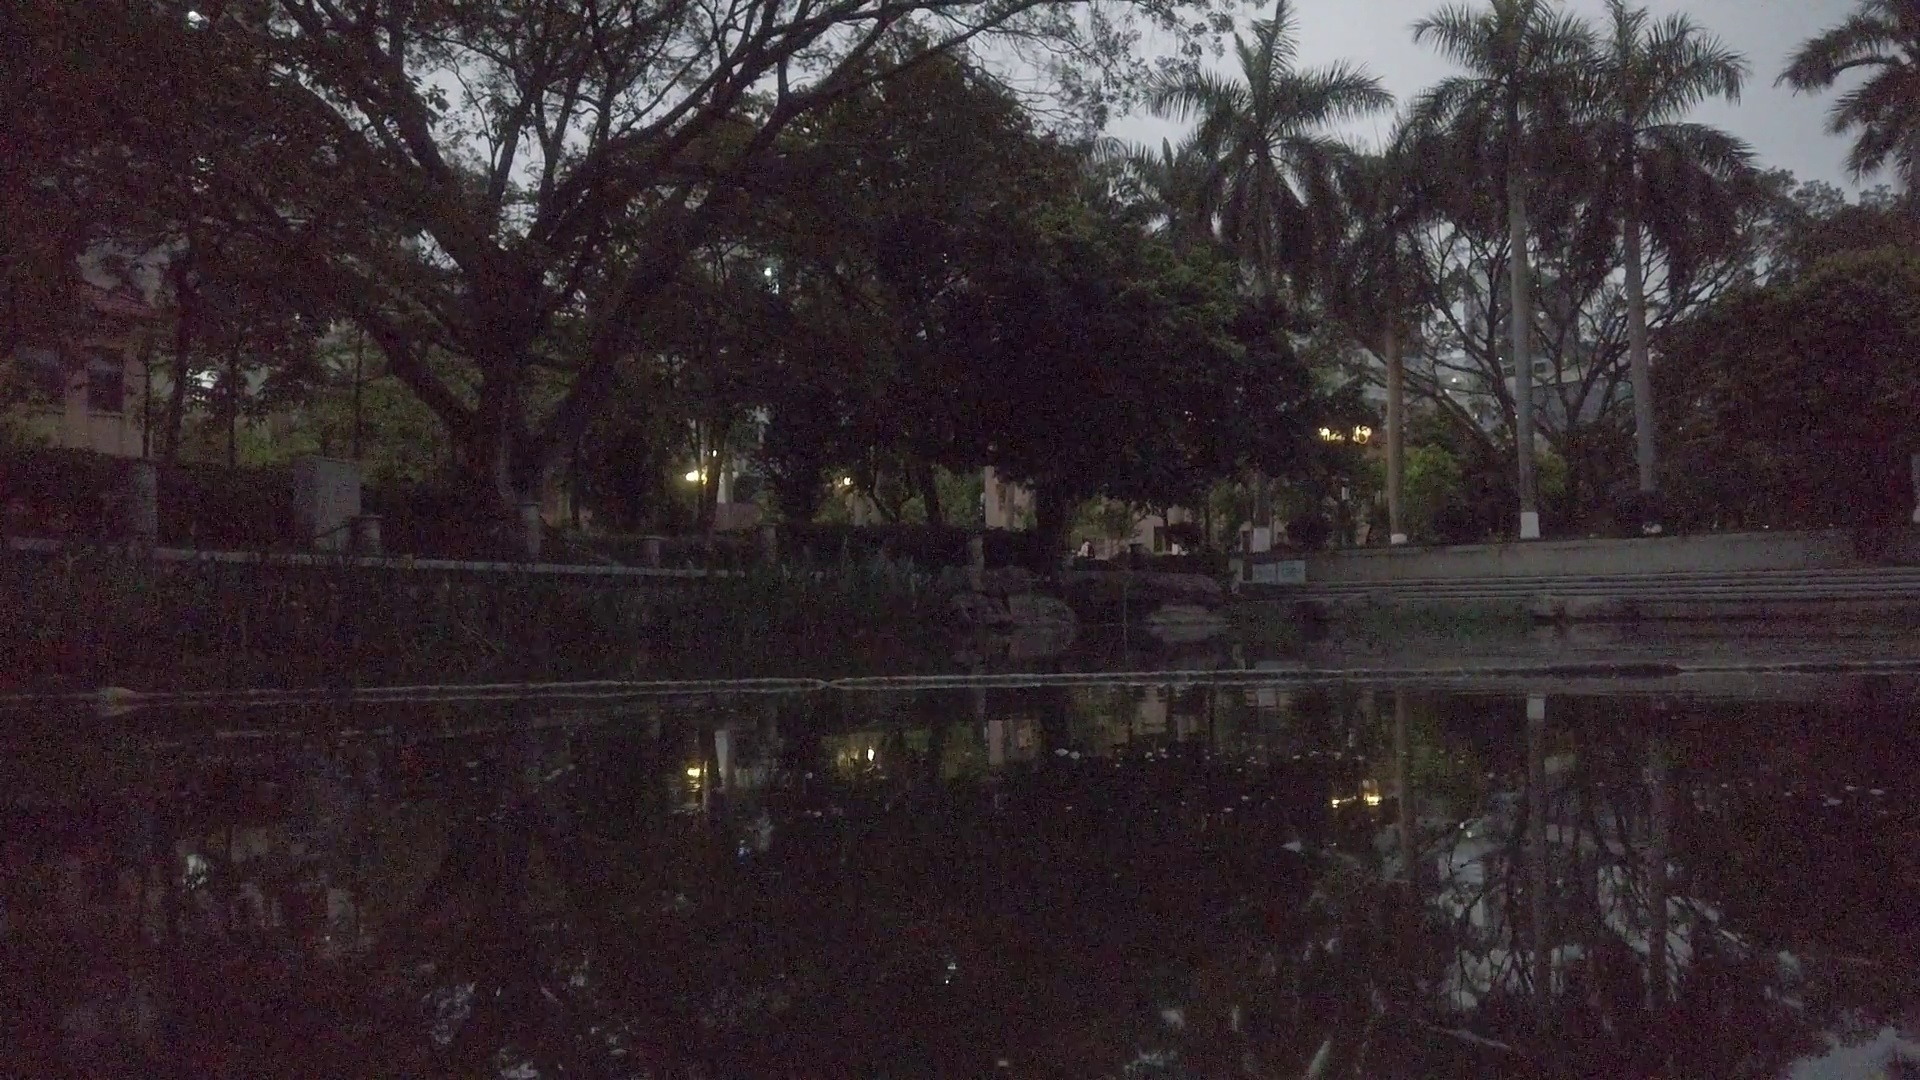bottle: (99, 688, 140, 708)
